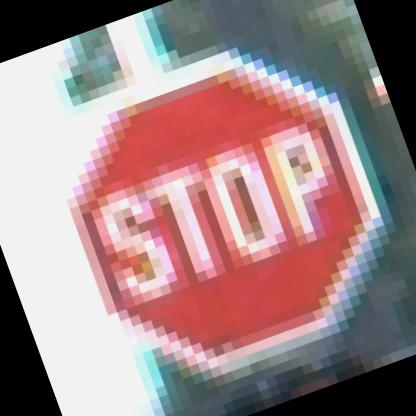stop: (19, 22, 415, 411)
